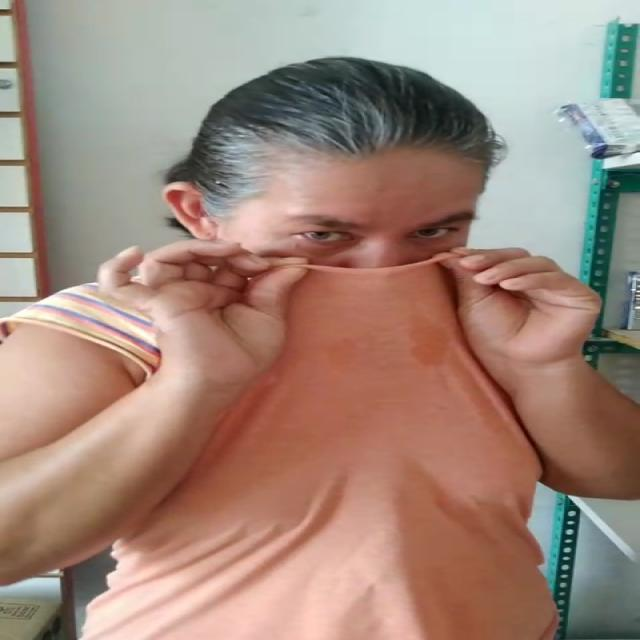8_ropa_rostro: (166, 244, 524, 396)
